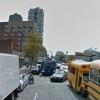Bus: (67, 55, 100, 100)
